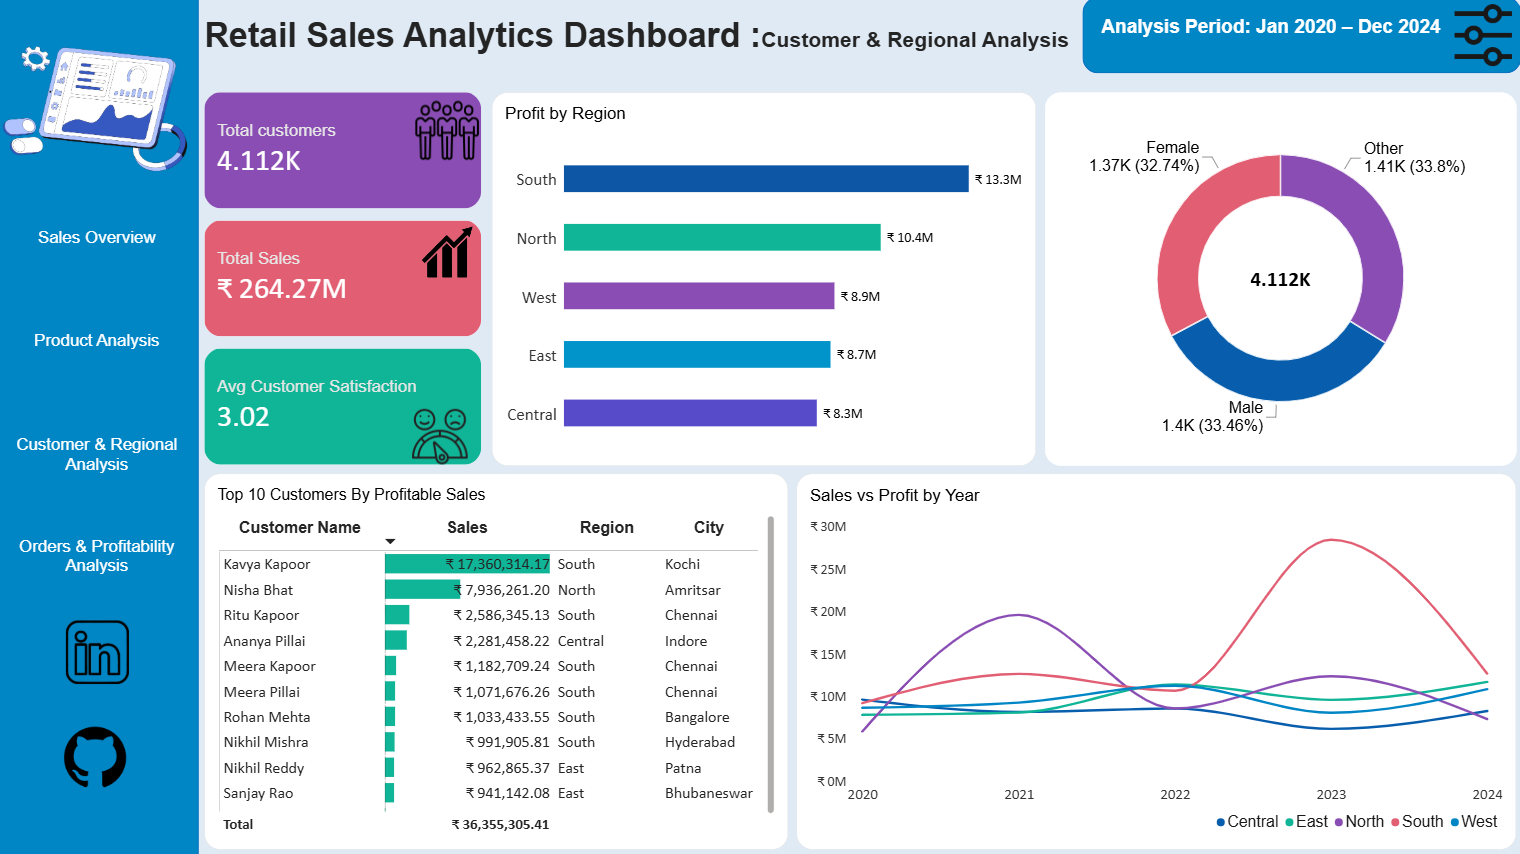

Layout of this report page (visuals, bound fields, positions):
{"tool":"powerbi","page":{"name":"Customer & Regional Analysis","canvas":[1920,1080],"ordinal":2},"visuals":[{"type":"shape","box":[0,-8,256,1088],"z":0},{"type":"lineChart","title":"Sales vs Profit by Year","fields":{"Category":["retail_sales_dataset.order_date.Variation.Date Hierarchy.Year","retail_sales_dataset.order_date.Variation.Date Hierarchy.Quarter","retail_sales_dataset.order_date.Variation.Date Hierarchy.Month","retail_sales_dataset.order_date.Variation.Date Hierarchy.Day"],"Series":["retail_sales_dataset.region"],"Y":["Sum(retail_sales_dataset.sales_amount)"]},"box":[1008,600,905,473],"z":1000},{"type":"actionButton","title":"Page 1","box":[0,400,256,64],"z":2000},{"type":"donutChart","fields":{"Category":["retail_sales_dataset.Gender"],"Y":["Count(retail_sales_dataset.customer_id)"]},"box":[1320,120,593,470],"z":3000},{"type":"cardVisual","title":"Total Sales","fields":{"Data":["Avg(retail_sales_dataset.customer_satisfaction)"]},"box":[264,443.1,348,146.9],"z":3000,"group":"g1"},{"type":"shape","box":[1368,0,552,96],"z":4000},{"type":"cardVisual","title":"Total Sales","fields":{"Data":["Count(retail_sales_dataset.customer_id)"]},"box":[264,120,348,146.9],"z":4000,"group":"g1"},{"type":"textbox","title":"Retail Sales Analytics Dashboard","box":[264,24,1104,72],"z":5000},{"type":"image","box":[1824,0,96,96],"z":7000},{"type":"actionButton","title":"Page 1","box":[0,272,256,64],"z":8000},{"type":"textbox","box":[1392,24,456,72],"z":9000},{"type":"actionButton","title":"Page 1","box":[0,528,256,96],"z":10000},{"type":"actionButton","title":"Page 1","box":[0,656,256,96],"z":11000},{"type":"group","id":"g1","title":"Group 1","box":[264,120,348,470],"z":12000},{"type":"cardVisual","title":"Total Sales","fields":{"Data":["Sum(retail_sales_dataset.sales_amount)"]},"box":[264,281.6,348,146.9],"z":13000,"group":"g1"},{"type":"tableEx","title":"Top 10 Customers By Profitable Sales","fields":{"Values":["retail_sales_dataset.customer_name","Sum(retail_sales_dataset.sales_amount)","retail_sales_dataset.region","retail_sales_dataset.city"]},"box":[264,600,734,473],"z":13000},{"type":"clusteredBarChart","title":"Profit by Region","fields":{"Category":["retail_sales_dataset.region"],"Y":["Sum(retail_sales_dataset.profit)"]},"box":[624,120,684,470],"z":14000},{"type":"image","box":[528,288,80,64],"z":15000},{"type":"image","box":[528,128,80,80],"z":16000},{"type":"image","box":[496,512,128,80],"z":17000},{"type":"image","box":[64,784,128,80],"z":18000},{"type":"image","box":[64,912,128,96],"z":19000},{"type":"image","box":[0,0,256,272],"z":20000}]}

Visuals, with their boxes in screenshot pixels (x1, y1, x2, y2), scaled from the page's 1920x1080 canvas onto the 1520x854 screenshot:
shape: bbox=[0, 0, 203, 853]
"Sales vs Profit by Year" lineChart: bbox=[798, 474, 1514, 848]
"Page 1" actionButton: bbox=[0, 316, 203, 367]
donutChart - retail_sales_dataset.Gender x Count(retail_sales_dataset.customer_id): bbox=[1045, 95, 1514, 467]
"Total Sales" cardVisual: bbox=[209, 350, 484, 467]
shape: bbox=[1083, 0, 1519, 76]
"Total Sales" cardVisual: bbox=[209, 95, 484, 211]
"Retail Sales Analytics Dashboard" textbox: bbox=[209, 19, 1083, 76]
image: bbox=[1444, 0, 1519, 76]
"Page 1" actionButton: bbox=[0, 215, 203, 266]
textbox: bbox=[1102, 19, 1463, 76]
"Page 1" actionButton: bbox=[0, 418, 203, 493]
"Page 1" actionButton: bbox=[0, 519, 203, 595]
"Group 1" group: bbox=[209, 95, 484, 467]
"Total Sales" cardVisual: bbox=[209, 223, 484, 339]
"Top 10 Customers By Profitable Sales" tableEx: bbox=[209, 474, 790, 848]
"Profit by Region" clusteredBarChart: bbox=[494, 95, 1036, 467]
image: bbox=[418, 228, 481, 278]
image: bbox=[418, 101, 481, 164]
image: bbox=[393, 405, 494, 468]
image: bbox=[51, 620, 152, 683]
image: bbox=[51, 721, 152, 797]
image: bbox=[0, 0, 203, 215]
